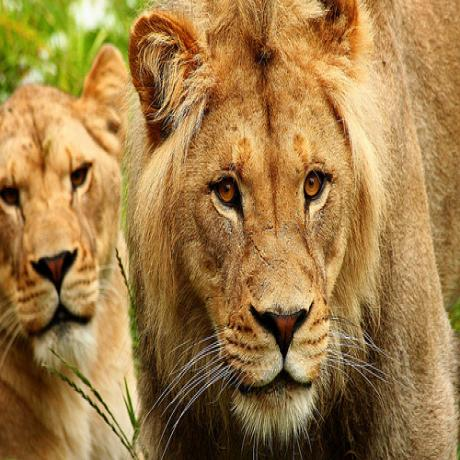Lion: (133, 0, 460, 460), (0, 0, 133, 460)
